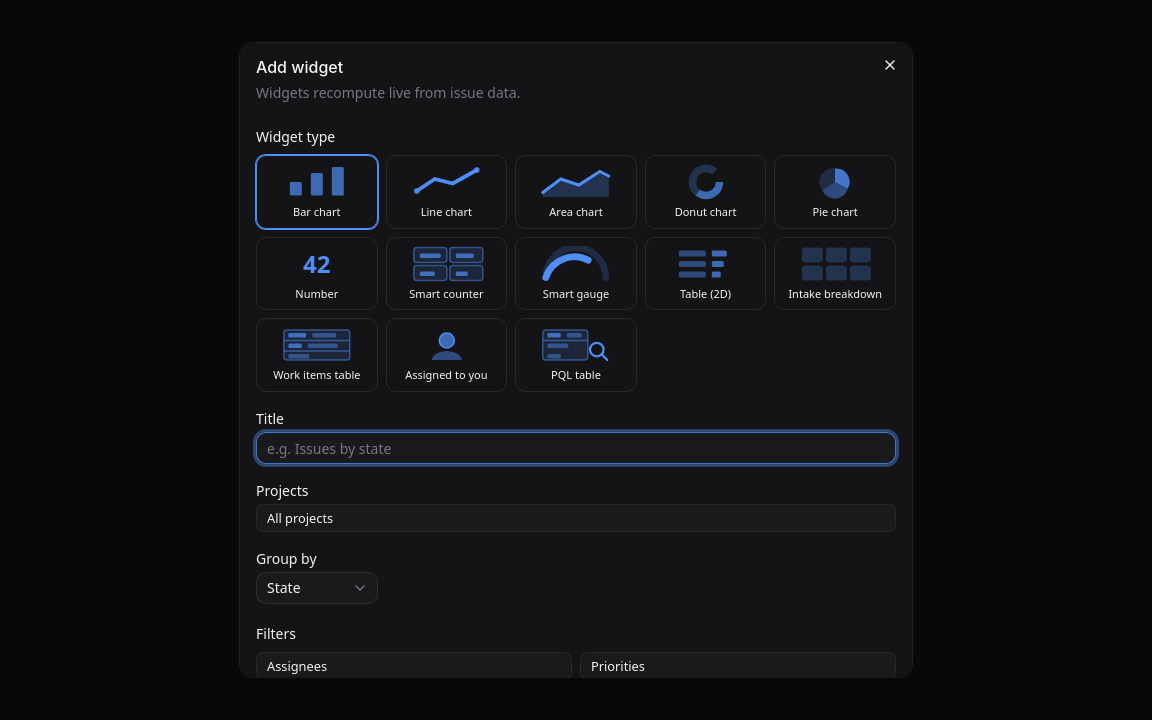
Test: WidgetDialog PQL panel (C100T1) › toggles the PQL cheat-sheet
The width and height of the screenshot is (1152, 720).
Click the radio button labelled "PQL table".
click(576, 355)  # box left=515, top=319, right=637, bottom=392
(page scrolled)
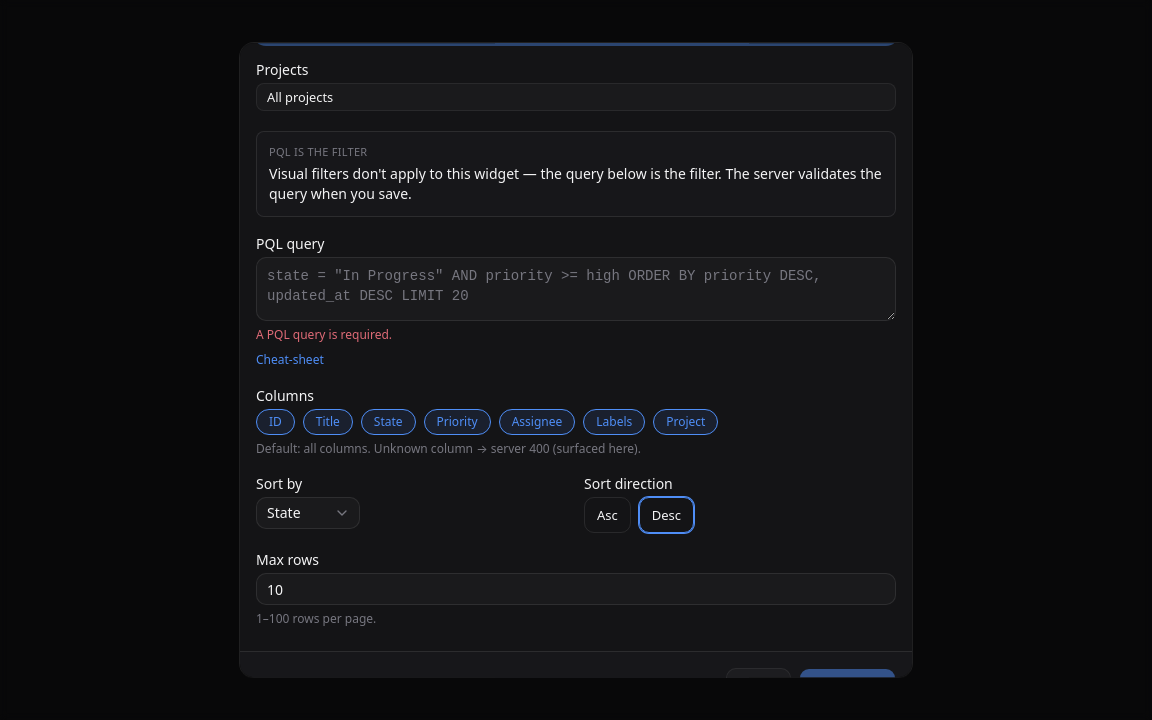
Expected: the text "State by name (project-scoped)" is not shown
Click the button "Cheat-sheet".
click(290, 360)  # box left=256, top=352, right=324, bottom=368
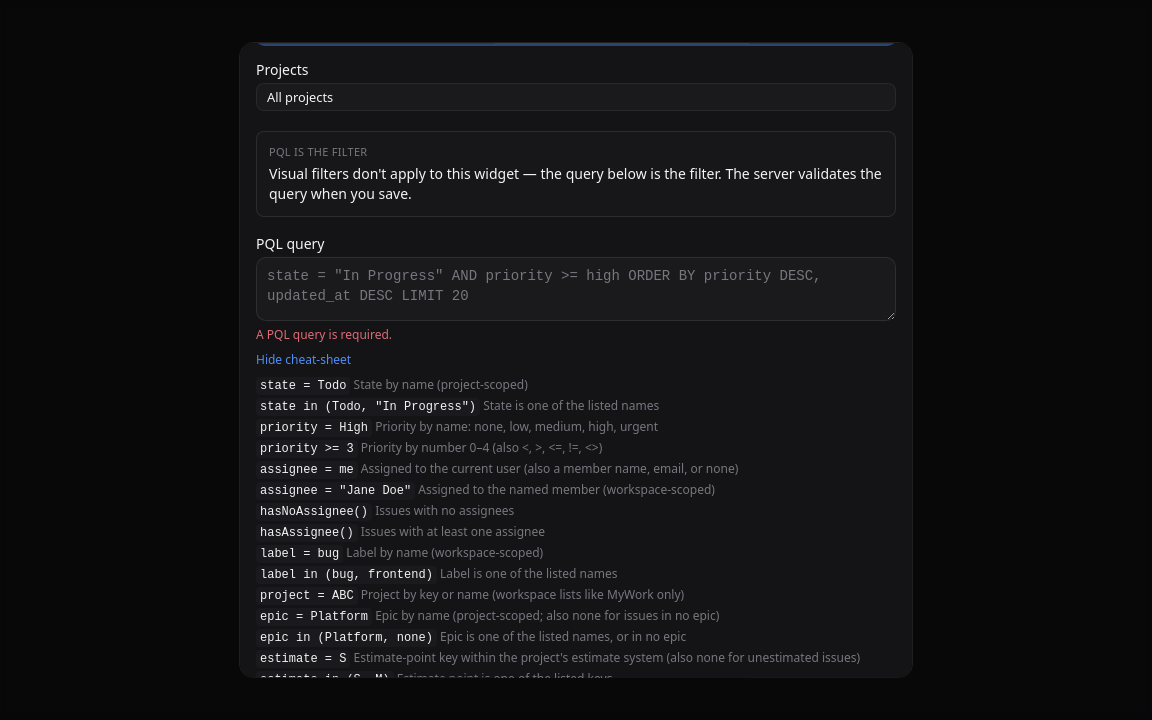
Expected: the text "State by name (project-scoped)" is shown, left=354, top=376, right=528, bottom=393
Expected: the text "state = Todo" is shown, left=256, top=377, right=350, bottom=395
